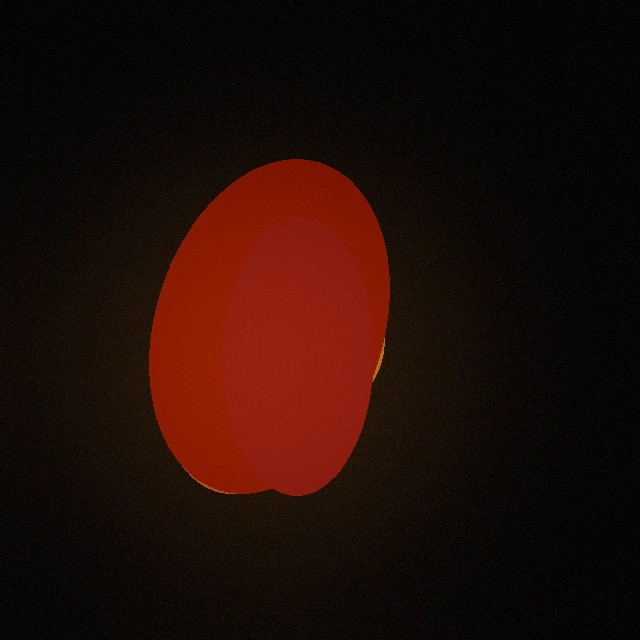fire: (178, 237, 356, 491)
